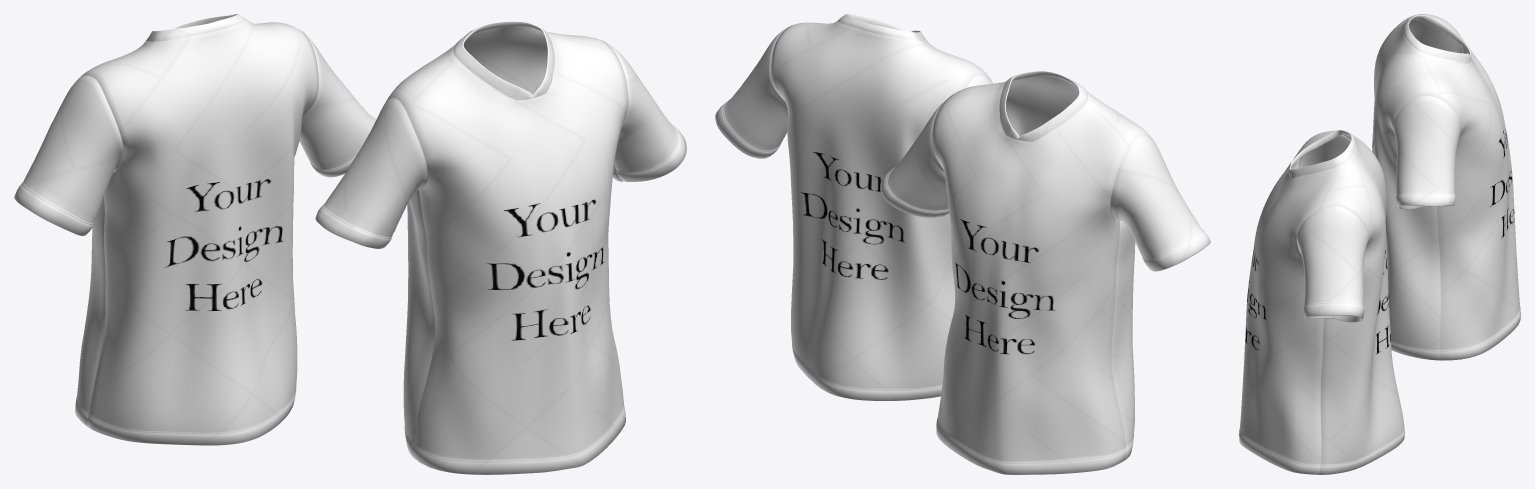
Rendered from T-shirt A-3.glb.
3 views of the same model, side by side, from view 1: azimuth 30°, elevation 25°; view 2: azimuth 150°, elevation 25°; view 3: azimuth 270°, elevation 25° (orthographic). The views are drawn at different scales.
Visible parts, largest first — view 1: T-shirt procedural texture.001, T-shirt procedural texture; view 2: T-shirt procedural texture, T-shirt procedural texture.001; view 3: T-shirt procedural texture.001, T-shirt procedural texture.
Part boxes in pixels (x1,y1,x2,y2): T-shirt procedural texture.001: [315, 21, 686, 474]; T-shirt procedural texture: [14, 14, 376, 445]; T-shirt procedural texture: [880, 71, 1210, 474]; T-shirt procedural texture.001: [715, 14, 992, 401]; T-shirt procedural texture.001: [1239, 130, 1404, 474]; T-shirt procedural texture: [1372, 14, 1520, 360].
Bounding box in the file's own units: 1.14 × 0.7746 × 0.6092.
1 material, 1 textured.
